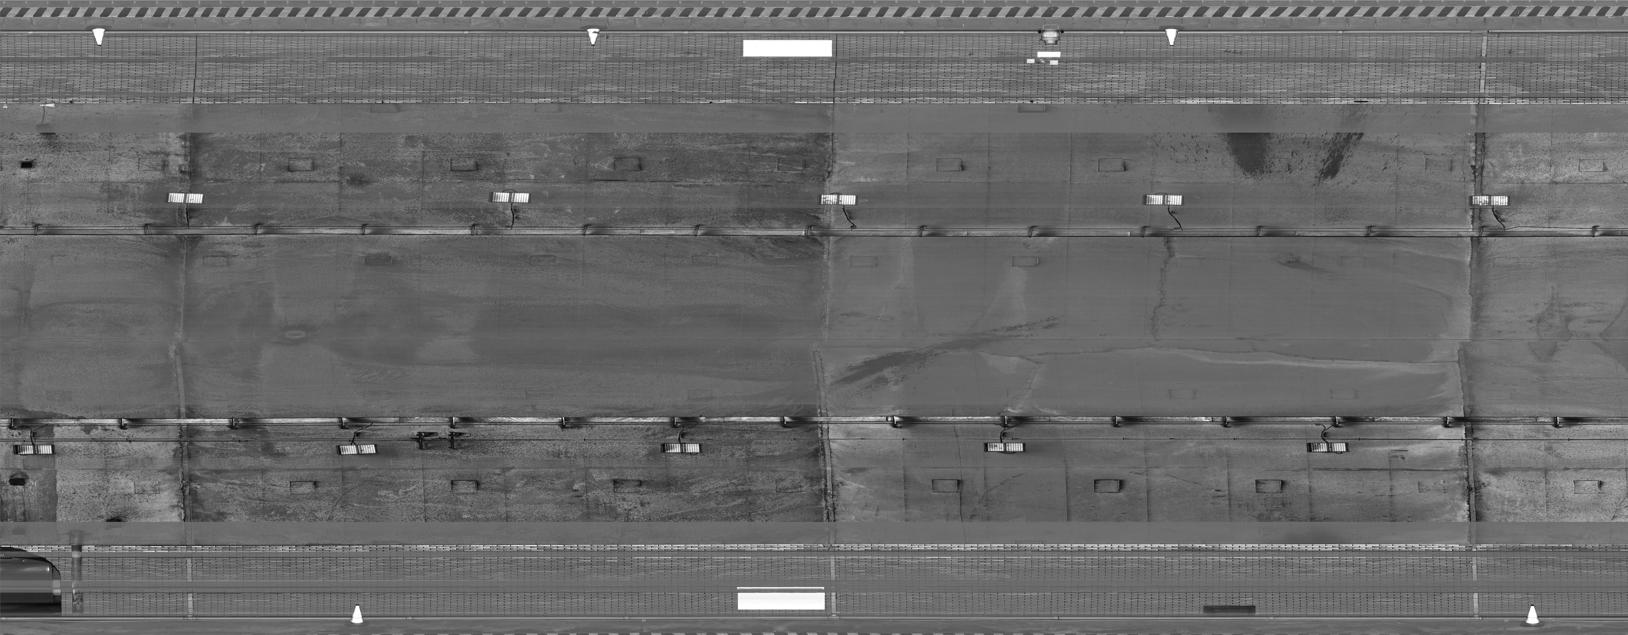light: (485, 186, 533, 206), (162, 188, 210, 208), (8, 441, 56, 461), (330, 440, 378, 460), (658, 440, 706, 460), (815, 189, 863, 209), (982, 436, 1030, 455), (1140, 189, 1188, 209), (1304, 438, 1352, 458), (1464, 188, 1512, 208)
